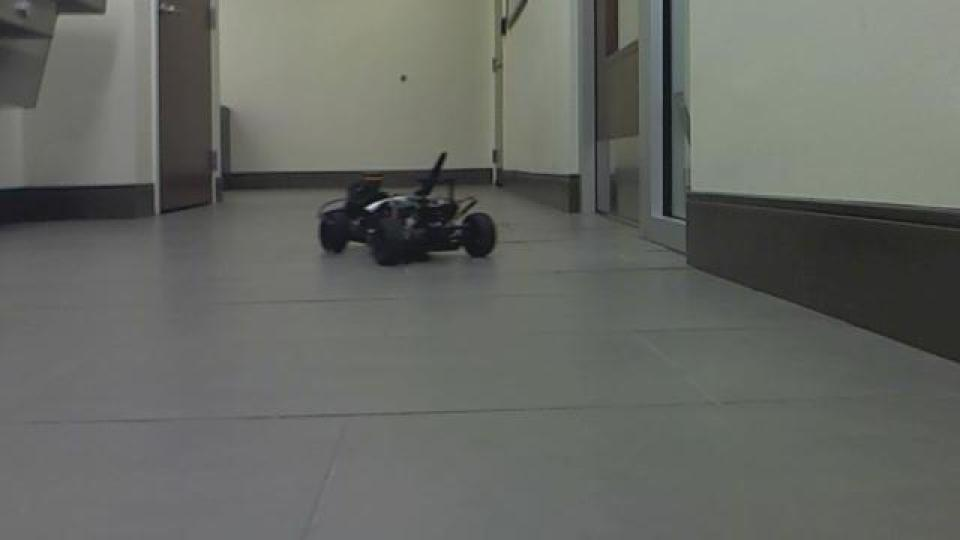car: (314, 148, 500, 268)
